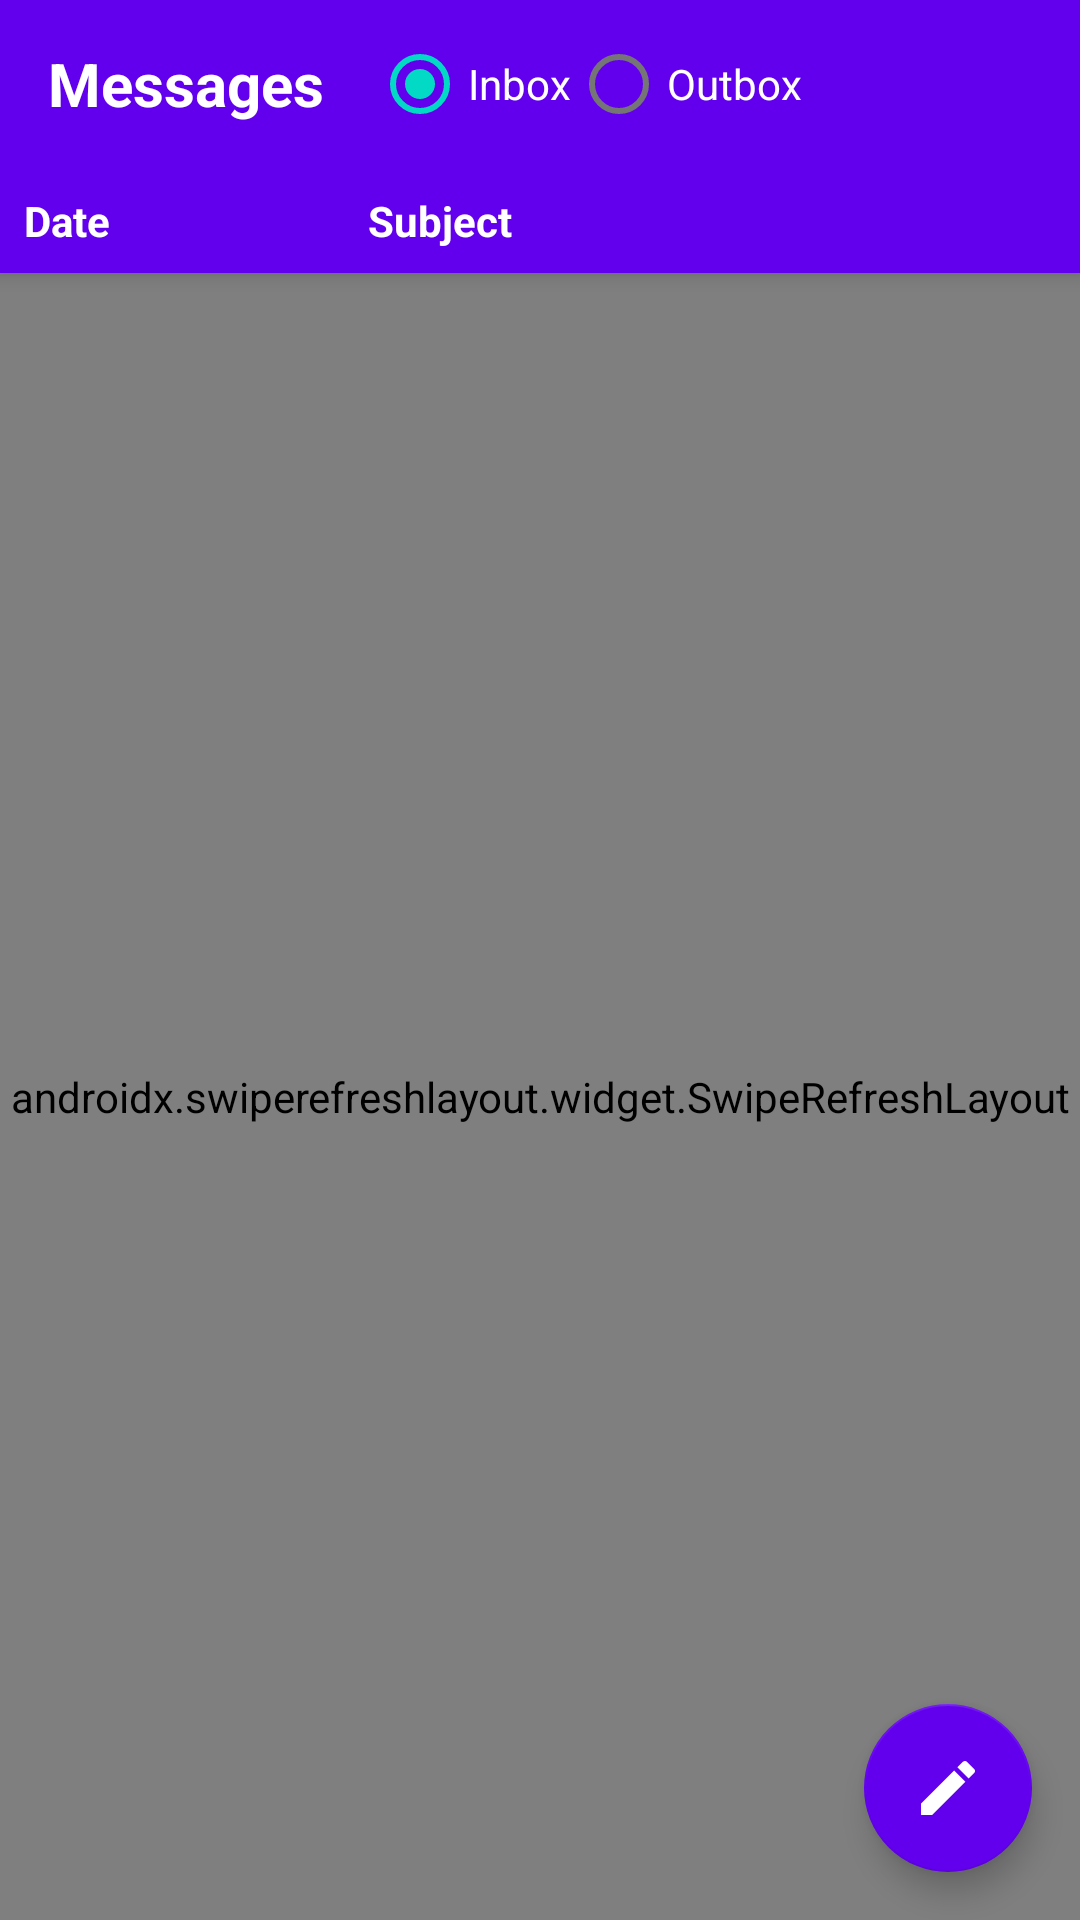

Icons on this 1080*1920 Android screen, each with the point to tap as [x,y]:
Compose: [948,1788]
